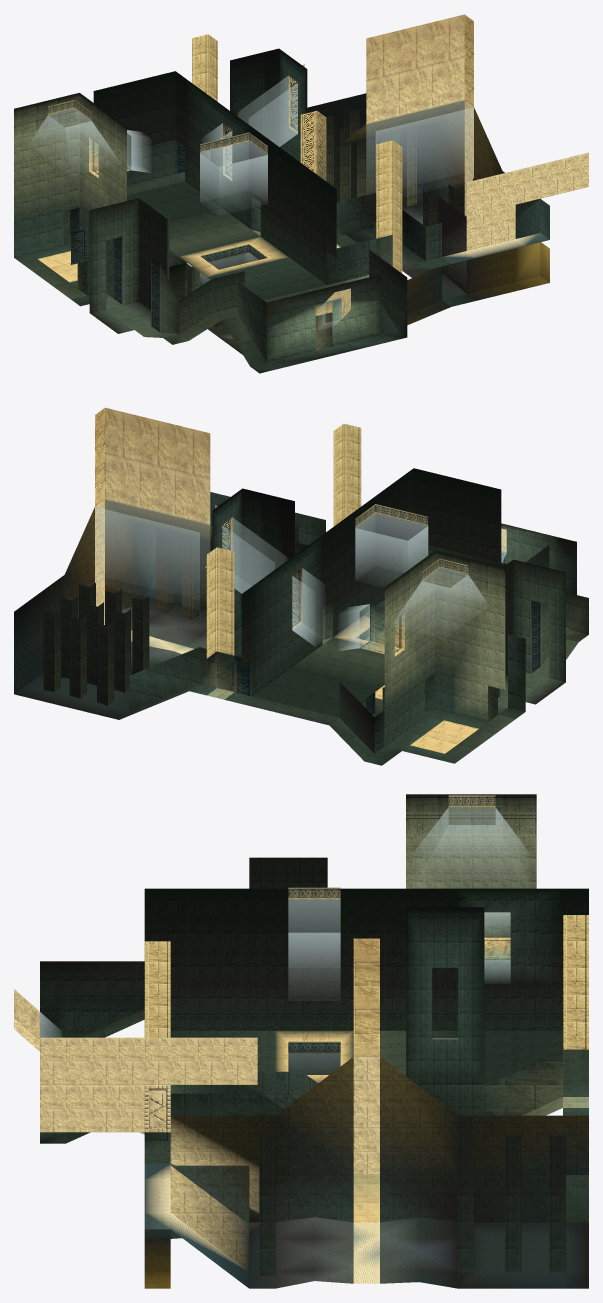
File: TemplePD.glb
The picture shows the model from 3 angles, top to bottom: view 1: azimuth 30°, elevation 25°; view 2: azimuth 150°, elevation 25°; view 3: azimuth 270°, elevation 25°; orthographic projection. The views are drawn at different scales.
Visible parts, largest first — view 1: TemplePD_0, TemplePD_5, TemplePD_8, TemplePD_3, TemplePD_Alpha_4, TemplePD_1, TemplePD_7, TemplePD_11, TemplePD_6, TemplePD_10; view 2: TemplePD_0, TemplePD_5, TemplePD_Alpha_4, TemplePD_8, TemplePD_3, TemplePD_6, TemplePD_1, TemplePD_7, TemplePD_11; view 3: TemplePD_0, TemplePD_8, TemplePD_5, TemplePD_6, TemplePD_3, TemplePD_Alpha_4, TemplePD_1, TemplePD_10.
Part boxes in pixels (x1=…): TemplePD_0: x1=14, y1=15, x2=473, y2=362; TemplePD_5: x1=14, y1=34, x2=515, y2=326; TemplePD_8: x1=326, y1=14, x2=588, y2=318; TemplePD_3: x1=14, y1=172, x2=549, y2=373; TemplePD_Alpha_4: x1=30, y1=76, x2=473, y2=328; TemplePD_1: x1=48, y1=64, x2=304, y2=332; TemplePD_7: x1=307, y1=93, x2=549, y2=282; TemplePD_11: x1=70, y1=110, x2=326, y2=294; TemplePD_6: x1=350, y1=179, x2=549, y2=299; TemplePD_10: x1=71, y1=227, x2=87, y2=264; TemplePD_0: x1=95, y1=408, x2=588, y2=746; TemplePD_5: x1=43, y1=423, x2=565, y2=705; TemplePD_Alpha_4: x1=95, y1=499, x2=506, y2=650; TemplePD_8: x1=64, y1=407, x2=515, y2=624; TemplePD_3: x1=119, y1=600, x2=588, y2=765; TemplePD_6: x1=14, y1=575, x2=206, y2=719; TemplePD_1: x1=205, y1=504, x2=540, y2=714; TemplePD_7: x1=14, y1=575, x2=64, y2=693; TemplePD_11: x1=374, y1=686, x2=497, y2=753; TemplePD_0: x1=40, y1=837, x2=588, y2=1115; TemplePD_8: x1=14, y1=989, x2=588, y2=1271; TemplePD_5: x1=144, y1=794, x2=588, y2=1275; TemplePD_6: x1=144, y1=1163, x2=588, y2=1288; TemplePD_3: x1=40, y1=1008, x2=588, y2=1288; TemplePD_Alpha_4: x1=40, y1=807, x2=527, y2=1074; TemplePD_1: x1=288, y1=795, x2=495, y2=1053; TemplePD_10: x1=144, y1=1085, x2=170, y2=1132.
Size of the model in its own units: 1011 by 469 by 825.
12 materials, 12 textured.
